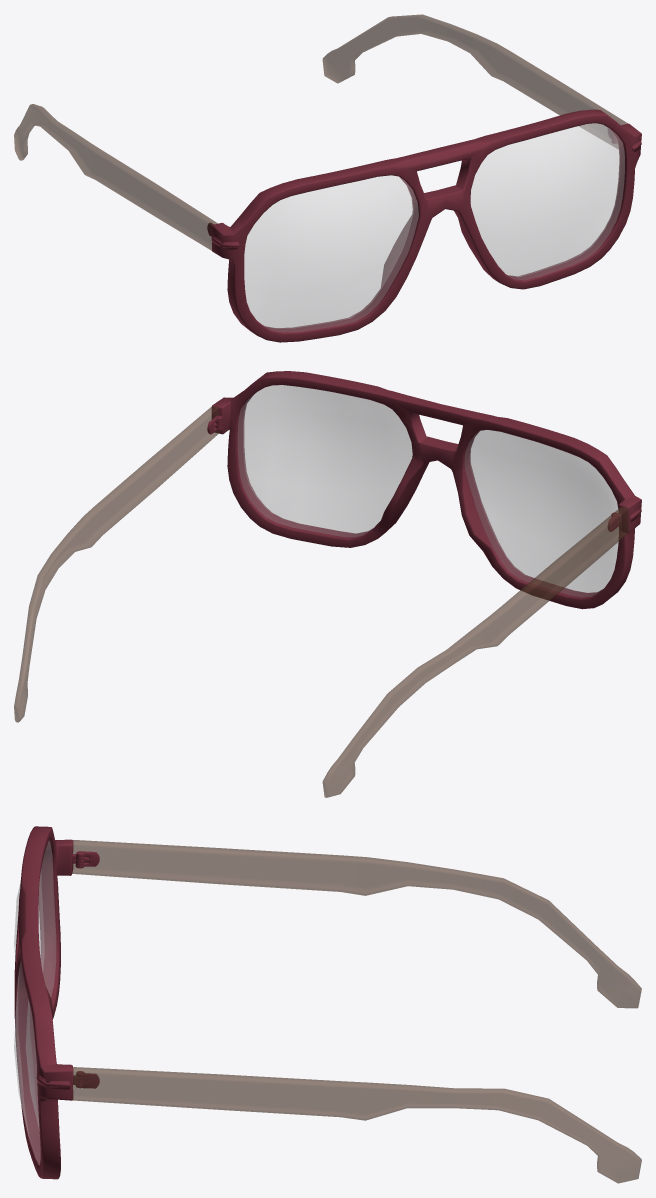
Rendered from panto-ince-bordo.glb.
3 views of the same model, one above another, from view 1: azimuth 30°, elevation 25°; view 2: azimuth 150°, elevation 25°; view 3: azimuth 270°, elevation 25° (orthographic). The views are drawn at different scales.
Parts seen in each view (by area): view 1: OPTIK_PRODUCT_232; view 2: OPTIK_PRODUCT_232; view 3: OPTIK_PRODUCT_232.
Part boxes in pixels (left/top/right/bottom): OPTIK_PRODUCT_232: left=14, top=14, right=641, bottom=342; OPTIK_PRODUCT_232: left=14, top=371, right=641, bottom=797; OPTIK_PRODUCT_232: left=14, top=826, right=641, bottom=1183.
Bounding box in the file's own units: 0.1566 × 0.0575 × 0.1785.
